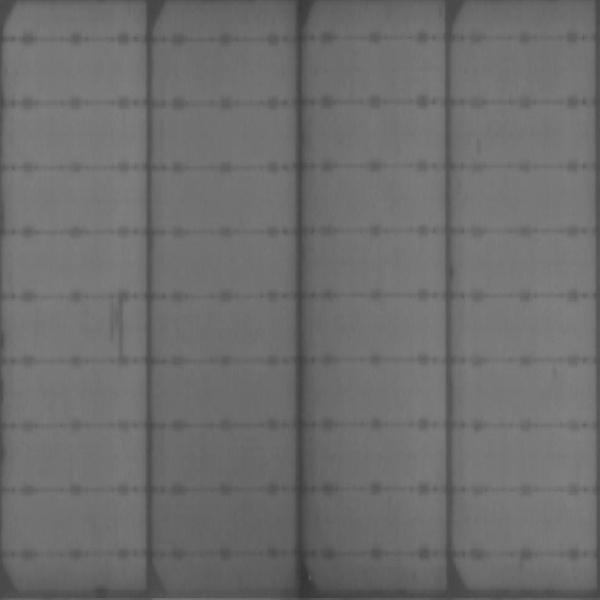scratch: (108, 306, 131, 358)
